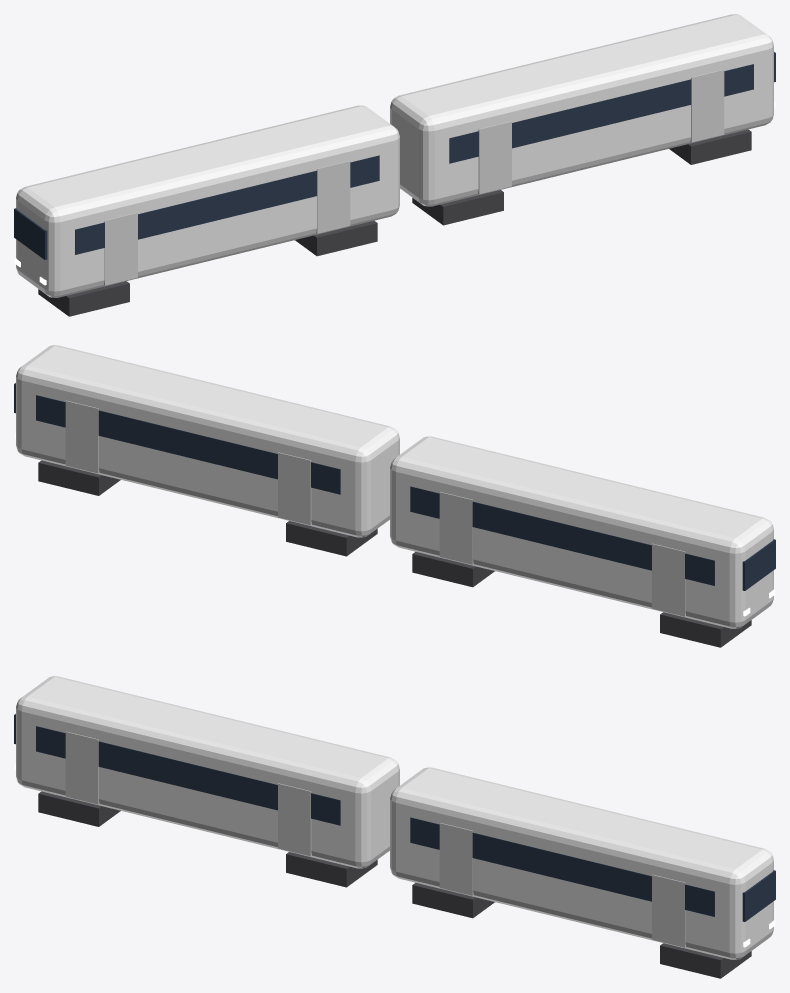
Rendered from train_dlr.glb.
3 renders of one model, top to bottom at view 1: azimuth 30°, elevation 25°; view 2: azimuth 150°, elevation 25°; view 3: azimuth 330°, elevation 25°, orthographic.
Visible parts, largest first — view 1: train_dlr; view 2: train_dlr; view 3: train_dlr.
Boxes of the visible parts, x1=… form: train_dlr: x1=14, y1=14, x2=775, y2=316; train_dlr: x1=14, y1=345, x2=775, y2=647; train_dlr: x1=14, y1=676, x2=775, y2=978.
Size of the model in its own units: 28.92 by 4.2 by 2.71.
